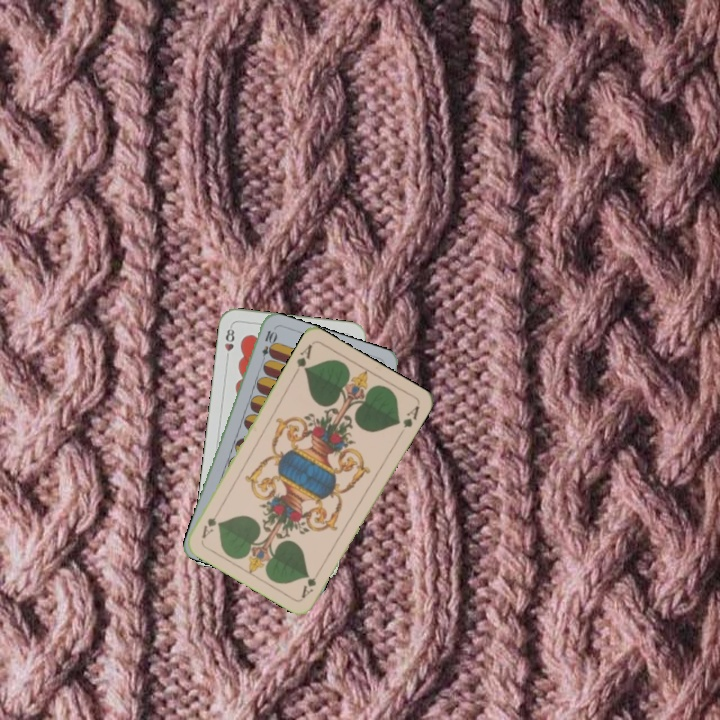E10: (257, 326, 278, 367)
GA: (297, 564, 324, 601), (290, 340, 315, 378)
H8: (221, 322, 237, 363)
